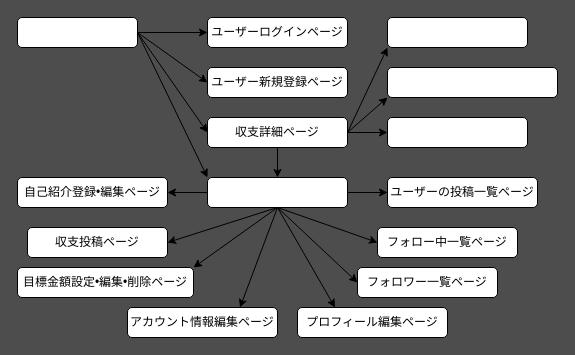
The diagram is 575 pixels wide and 355 high, and some of its shapes have lost their labels. Each missing label, with the centre of its shape:
コメント投稿•編集•削除ページ: point 472,82
ユーザーページ: point 277,192
収支一覧ページ: point 77,32
収支編集•削除ページ: point 457,132
収支説明編集•削除ページ: point 457,32
